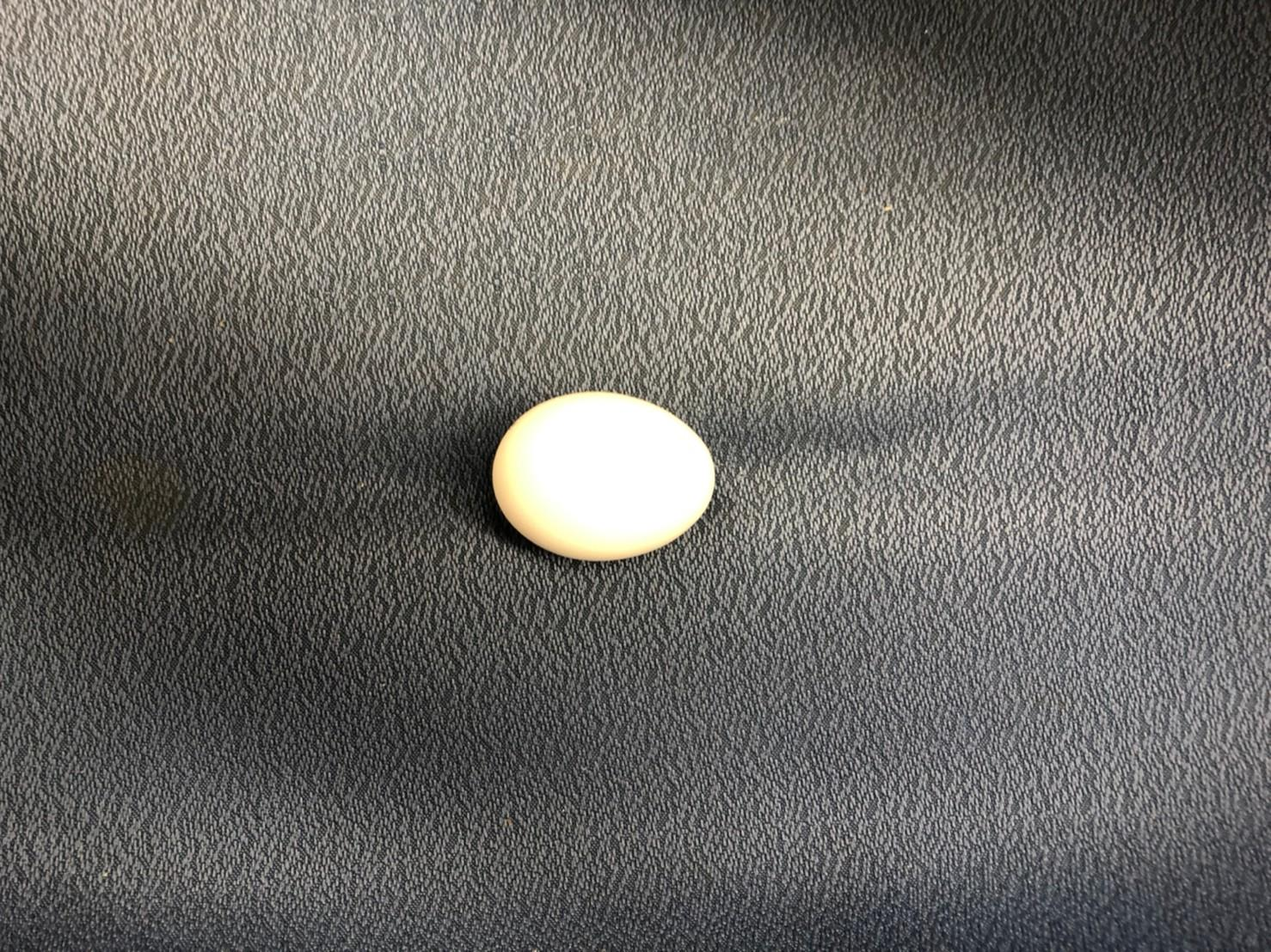egg: (484, 385, 723, 568)
